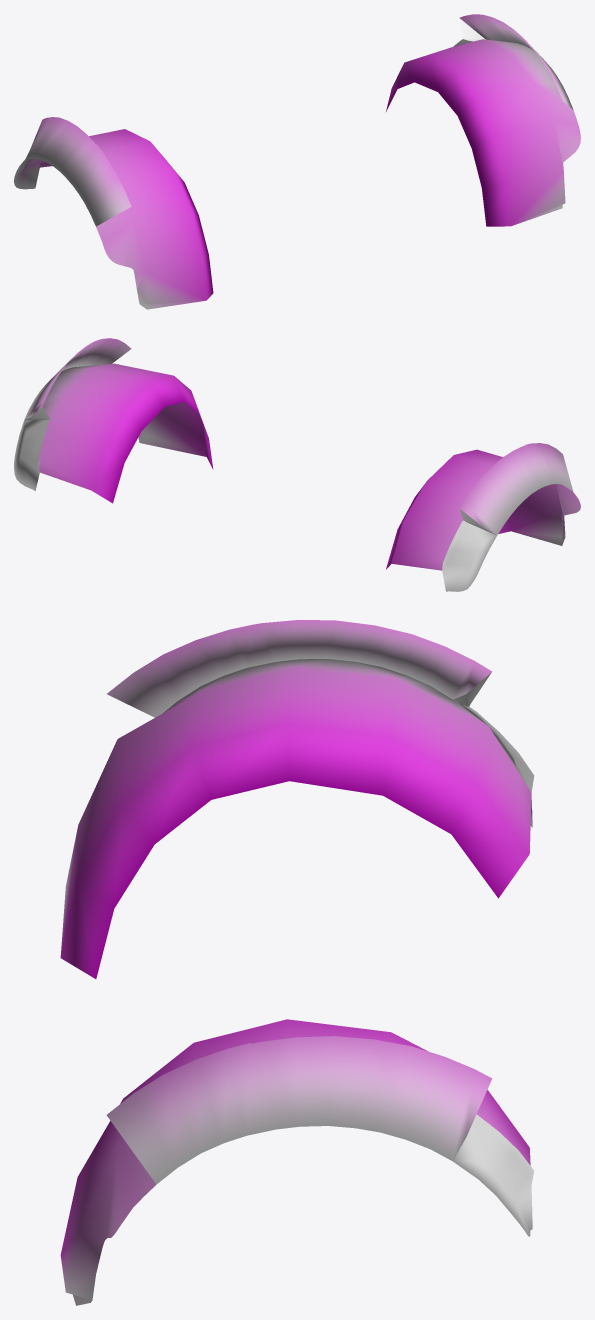
File: Car_Mini_CountrymanJCW_2017_FendersChassisR_SetE.fbx
3 renders of one model, top to bottom at view 1: azimuth 30°, elevation 25°; view 2: azimuth 150°, elevation 25°; view 3: azimuth 270°, elevation 25°, orthographic. The views are drawn at different scales.
Visible parts, largest first — view 1: FendersChassisR 6; view 2: FendersChassisR 6; view 3: FendersChassisR 6.
Boxes of the visible parts, box(x1,y1,x2,y2) form: FendersChassisR 6: box(14, 14, 580, 309); FendersChassisR 6: box(14, 338, 580, 591); FendersChassisR 6: box(60, 620, 534, 1305).
Size of the model in its own units: 1.95 by 0.5544 by 0.8367.
